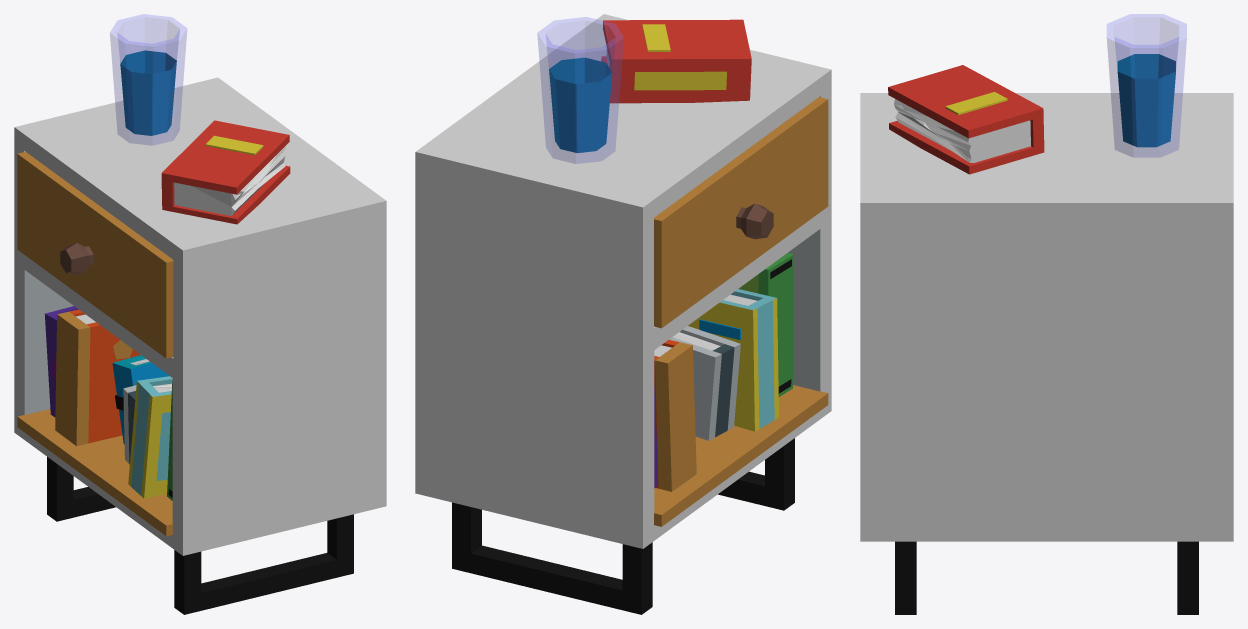
File: vitrine.gltf
The picture shows the model from 3 angles, left to right: view 1: azimuth 30°, elevation 25°; view 2: azimuth 150°, elevation 25°; view 3: azimuth 270°, elevation 25°; orthographic projection. The views are drawn at different scales.
Visible parts, largest first — view 1: node_MeshObject-606646272-PolyPaper21, node_MeshObject-34567168-PolyGlass24; view 2: node_MeshObject-606646272-PolyPaper21, node_MeshObject-34567168-PolyGlass24; view 3: node_MeshObject-606646272-PolyPaper21, node_MeshObject-34567168-PolyGlass24.
Part boxes in pixels (x1,y1,x2,y2): node_MeshObject-606646272-PolyPaper21: (14, 50, 386, 614); node_MeshObject-34567168-PolyGlass24: (110, 14, 186, 145); node_MeshObject-606646272-PolyPaper21: (415, 14, 831, 614); node_MeshObject-34567168-PolyGlass24: (537, 17, 623, 163); node_MeshObject-606646272-PolyPaper21: (860, 54, 1233, 614); node_MeshObject-34567168-PolyGlass24: (1107, 14, 1186, 157).
Bounding box in the file's own units: 0.688 × 1.36 × 0.86.
